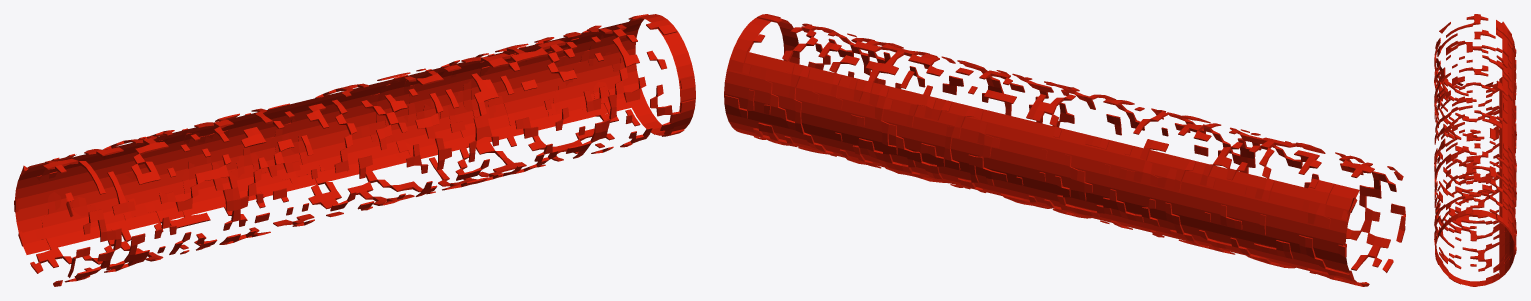
The model's file is IncompleteCylinder2.fbx.
3 renders of one model, left to right at view 1: azimuth 30°, elevation 25°; view 2: azimuth 150°, elevation 25°; view 3: azimuth 270°, elevation 25°, orthographic. The views are drawn at different scales.
Visible parts, largest first — view 1: Cylinder.001, Cylinder; view 2: Cylinder.001, Cylinder; view 3: Cylinder, Cylinder.001.
Part boxes in pixels (box(x1,y1,x2,y2)): Cylinder.001: box(15, 14, 695, 254); Cylinder: box(14, 14, 695, 286); Cylinder.001: box(724, 17, 1359, 282); Cylinder: box(724, 14, 1405, 286); Cylinder: box(1434, 14, 1516, 286); Cylinder.001: box(1435, 20, 1515, 286).
Bounding box in the file's own units: 4.39 × 0.7655 × 0.765.
